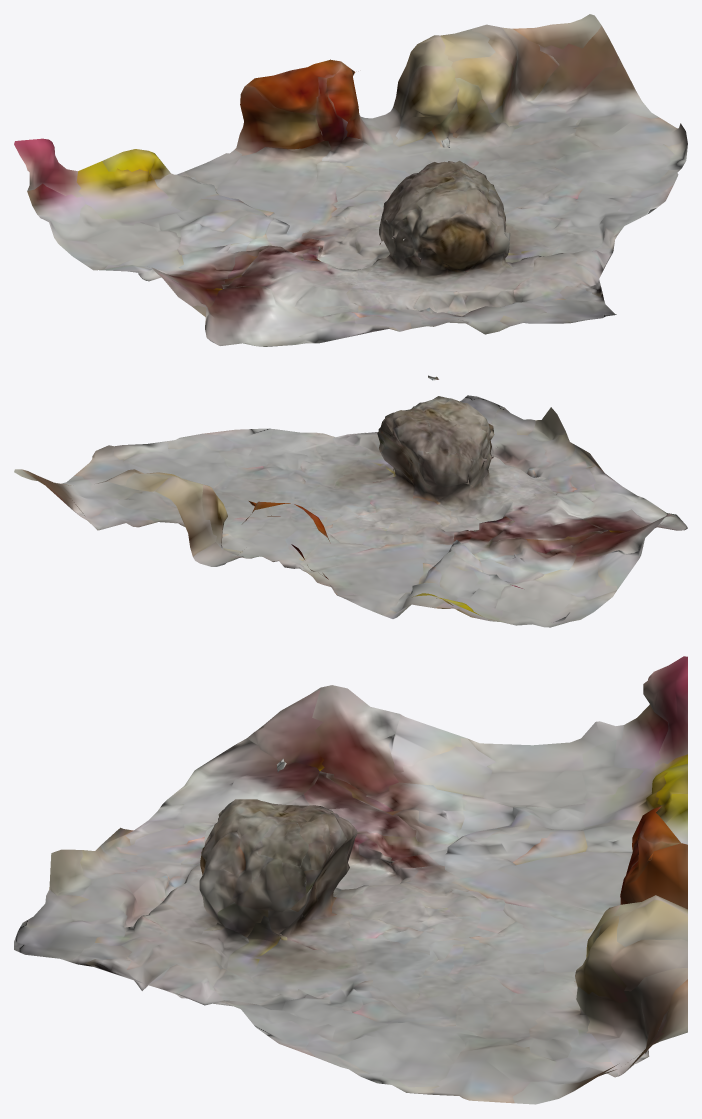
The model's file is hall.glb.
The picture shows the model from 3 angles, top to bottom: view 1: azimuth 30°, elevation 25°; view 2: azimuth 150°, elevation 25°; view 3: azimuth 270°, elevation 25°; orthographic projection. The views are drawn at different scales.
Bounding box in the file's own units: 4.01 × 0.8906 × 3.16.
Materials: 1 (1 with a texture image).
